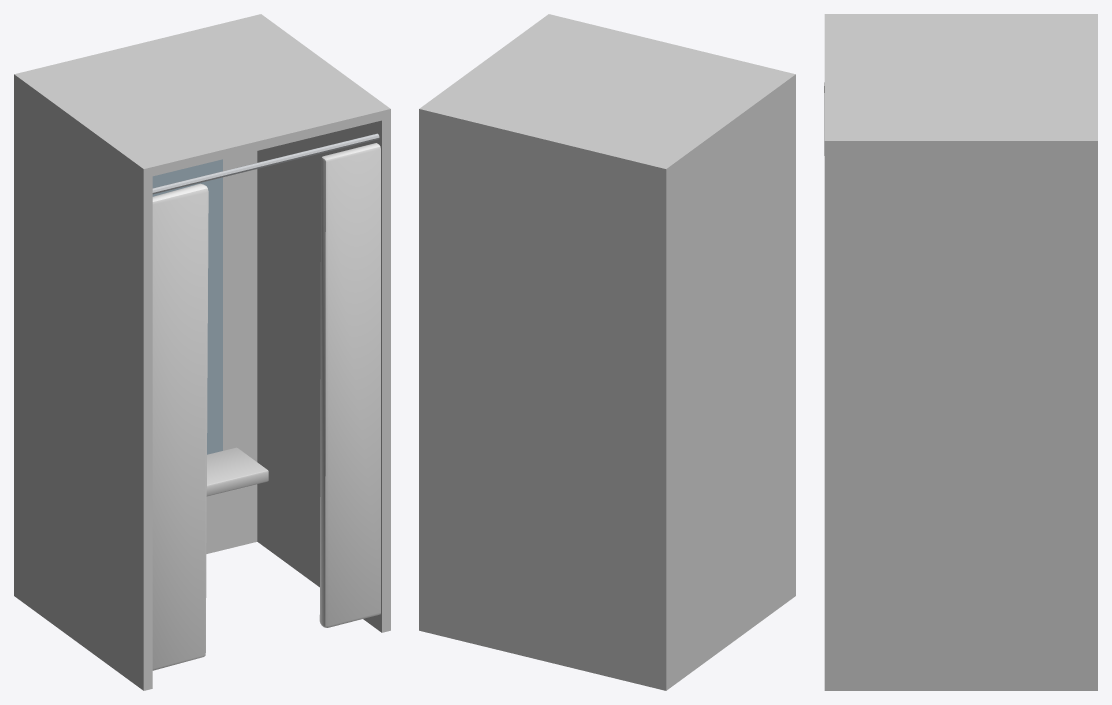
The model's file is fitting_room.glb.
3 views of the same model, side by side, from view 1: azimuth 30°, elevation 25°; view 2: azimuth 150°, elevation 25°; view 3: azimuth 270°, elevation 25° (orthographic). The views are drawn at different scales.
Visible parts, largest first — view 1: back, drape, mirror, rod; view 2: back; view 3: back.
Part boxes in pixels (x1,y1,x2,y2): back: (14,14,390,690); drape: (152,143,380,670); mirror: (152,159,222,454); rod: (152,133,379,194); back: (419,14,795,690); back: (824,14,1097,690).
Bounding box in the file's own units: 1.1 × 2.22 × 1.
